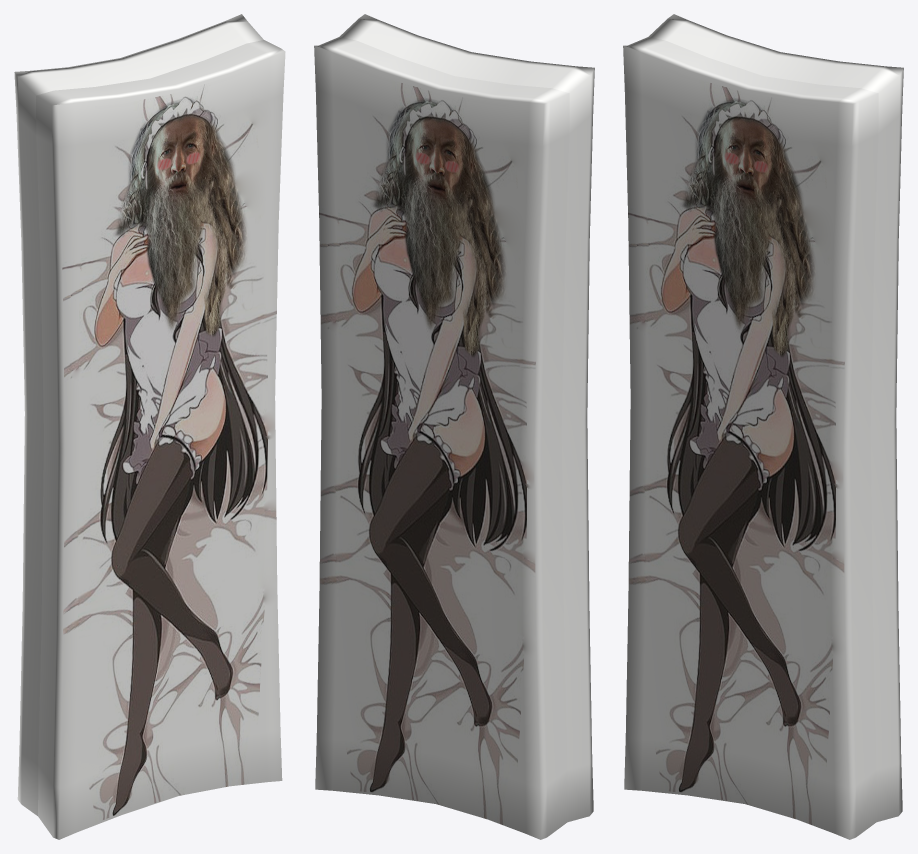
The model's file is BodyPillow.fbx.
3 views of the same model, side by side, from view 1: azimuth 30°, elevation 25°; view 2: azimuth 150°, elevation 25°; view 3: azimuth 330°, elevation 25° (orthographic).
Parts seen in each view (by area): view 1: pCube3; view 2: pCube3; view 3: pCube3.
Boxes of the visible parts, box(x1,y1,x2,y2) form: pCube3: box(14, 14, 285, 839); pCube3: box(314, 14, 594, 839); pCube3: box(623, 14, 903, 839).
Size of the model in its own units: 13.8 by 41.73 by 4.83.
